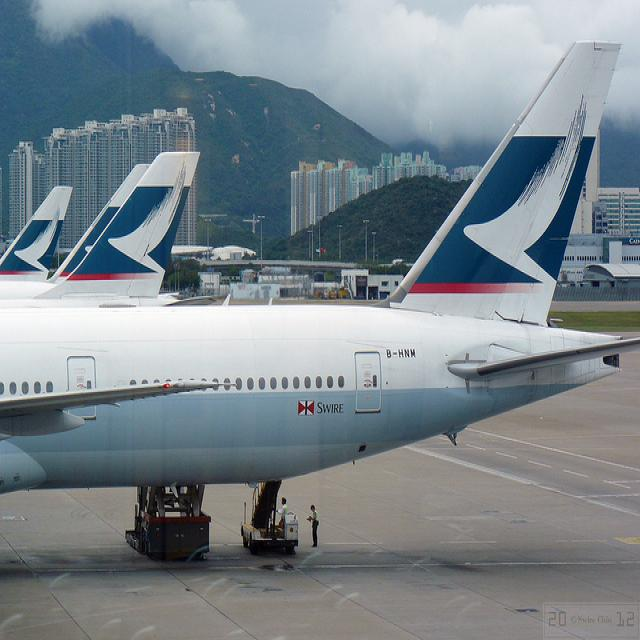Vehicle: (310, 282, 338, 298), (324, 290, 336, 298)
